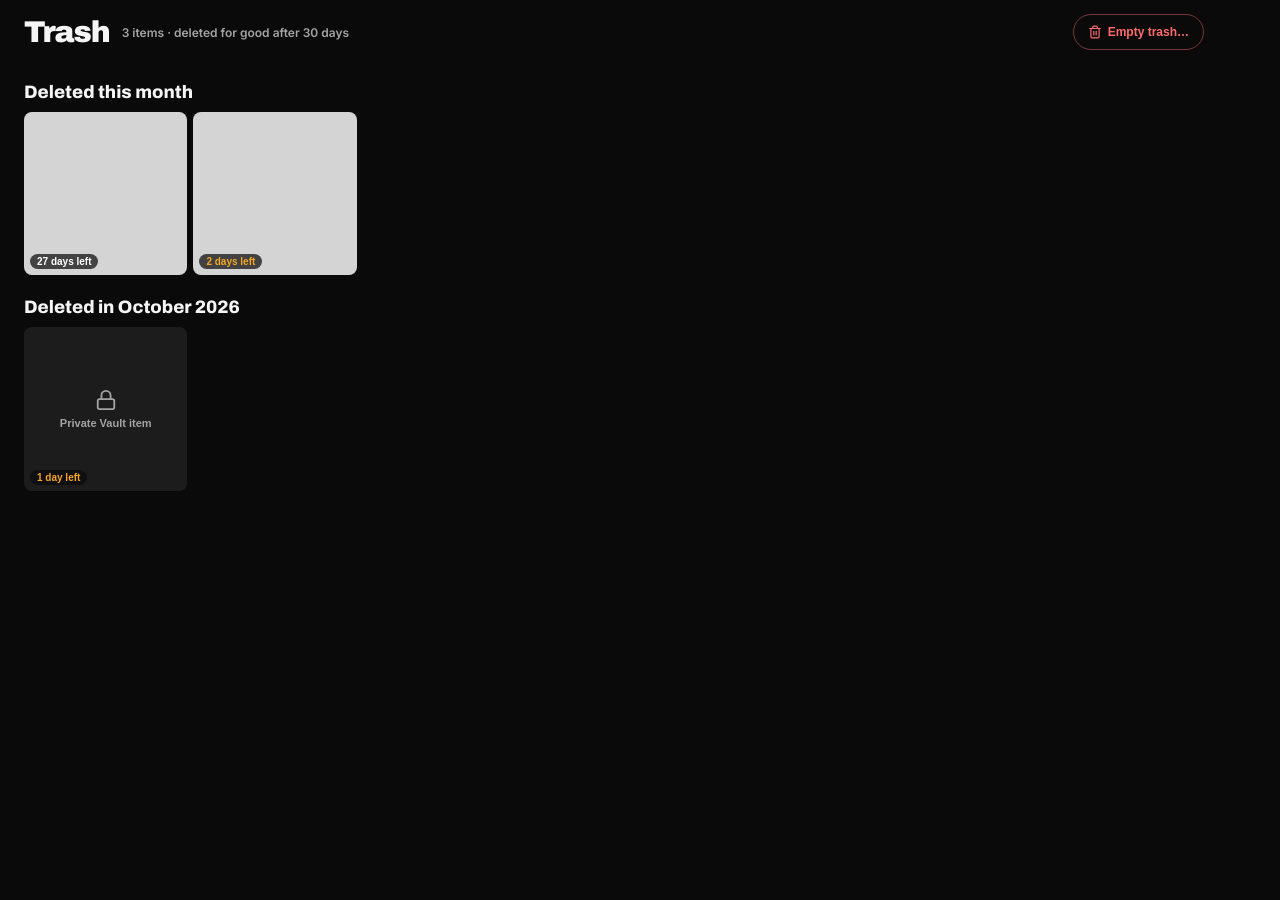
Scenario: TrashView › restores the selected items with one click
Later steps or results of the test are not shown.
Click the button with aria-label "Trip day 1, 27 days left".
click(106, 194)  # box [24,112,187,275]
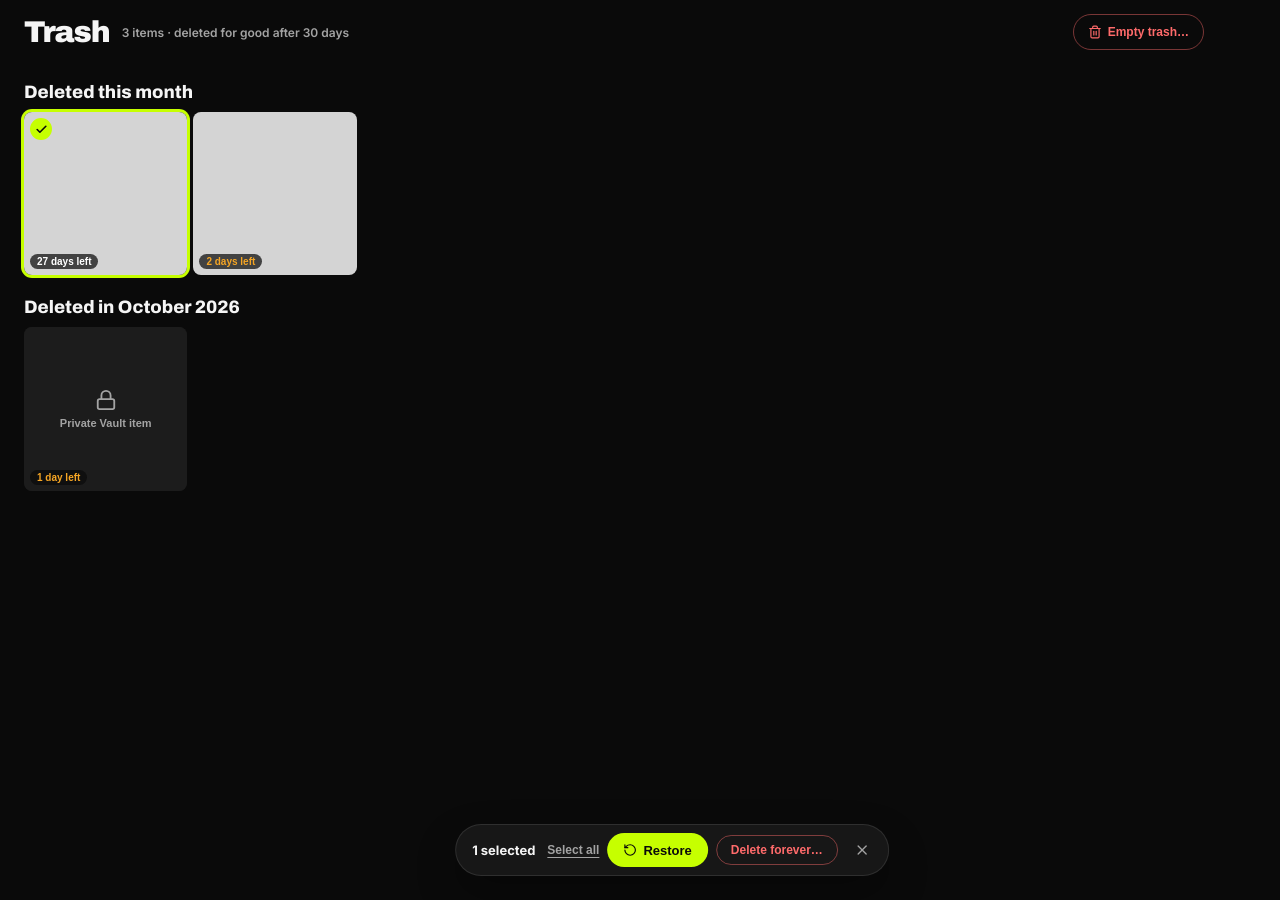
Click the button with aria-label "Trip day 2, 2 days left".
click(275, 194)  # box [193,112,357,275]
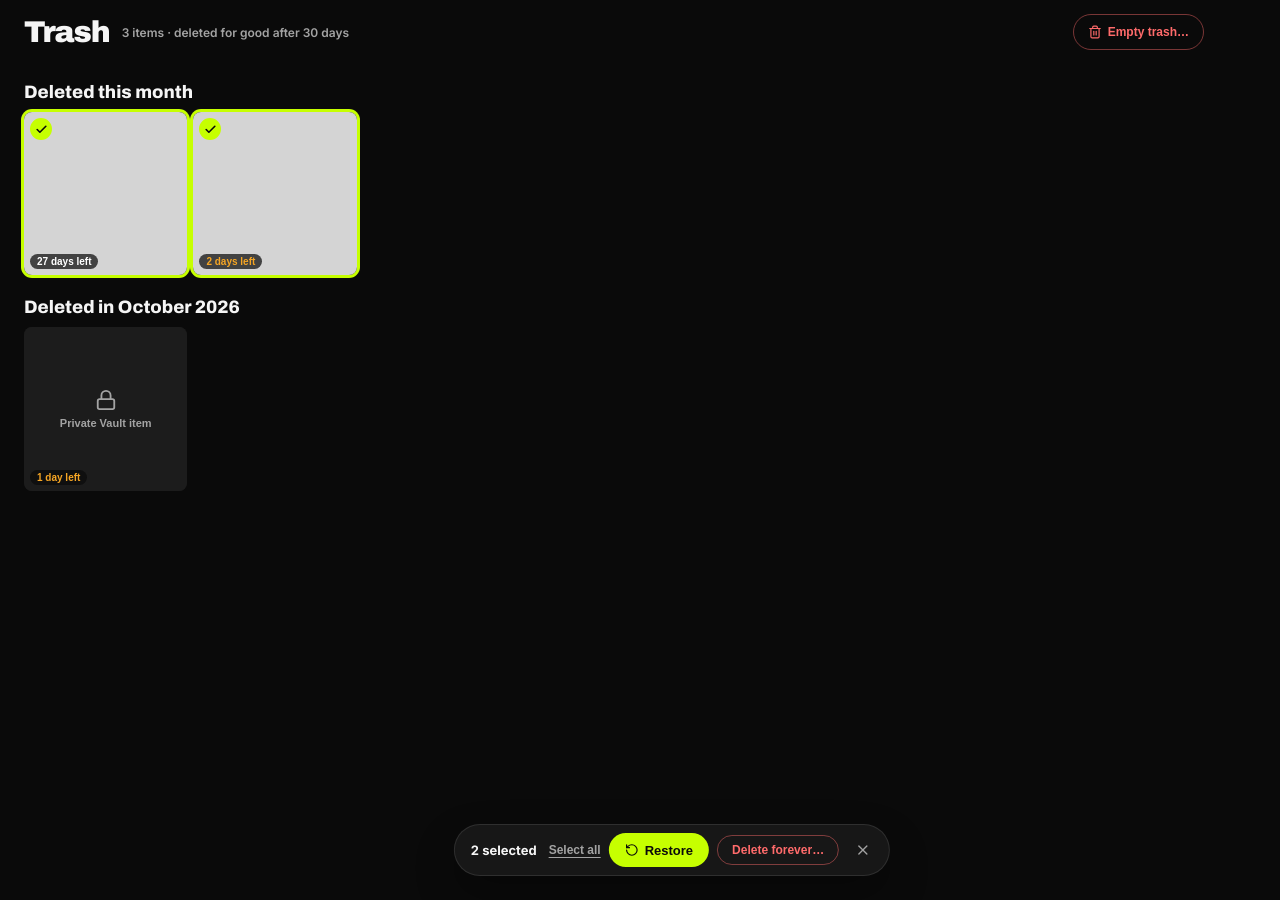
Check: the text "2 selected" is shown, box [471,842,537,858]
